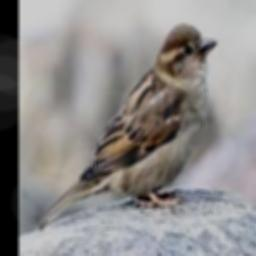Sparrow: (36, 24, 216, 230)
